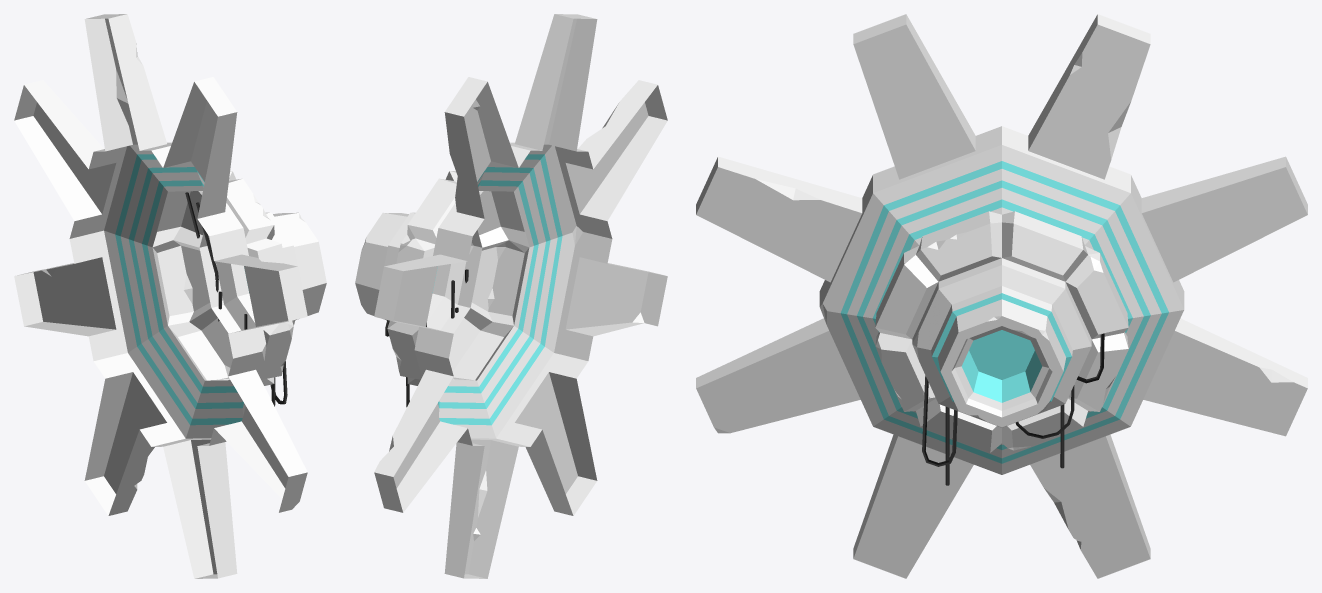
File: CargoBayLiftBeam_02.fbx
3 views of the same model, side by side, from view 1: azimuth 30°, elevation 25°; view 2: azimuth 150°, elevation 25°; view 3: azimuth 270°, elevation 25° (orthographic). The views are drawn at different scales.
Visible parts, largest first — view 1: CargoBayLifeBeam_01; view 2: CargoBayLifeBeam_01; view 3: CargoBayLifeBeam_01.
Boxes of the visible parts, bbox=[...] form: CargoBayLifeBeam_01: bbox=[14, 14, 326, 578]; CargoBayLifeBeam_01: bbox=[355, 14, 667, 578]; CargoBayLifeBeam_01: bbox=[696, 14, 1307, 578].
Bounding box in the file's own units: 128 × 410 × 410.
